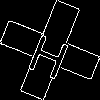H: (25, 25, 75, 81)
